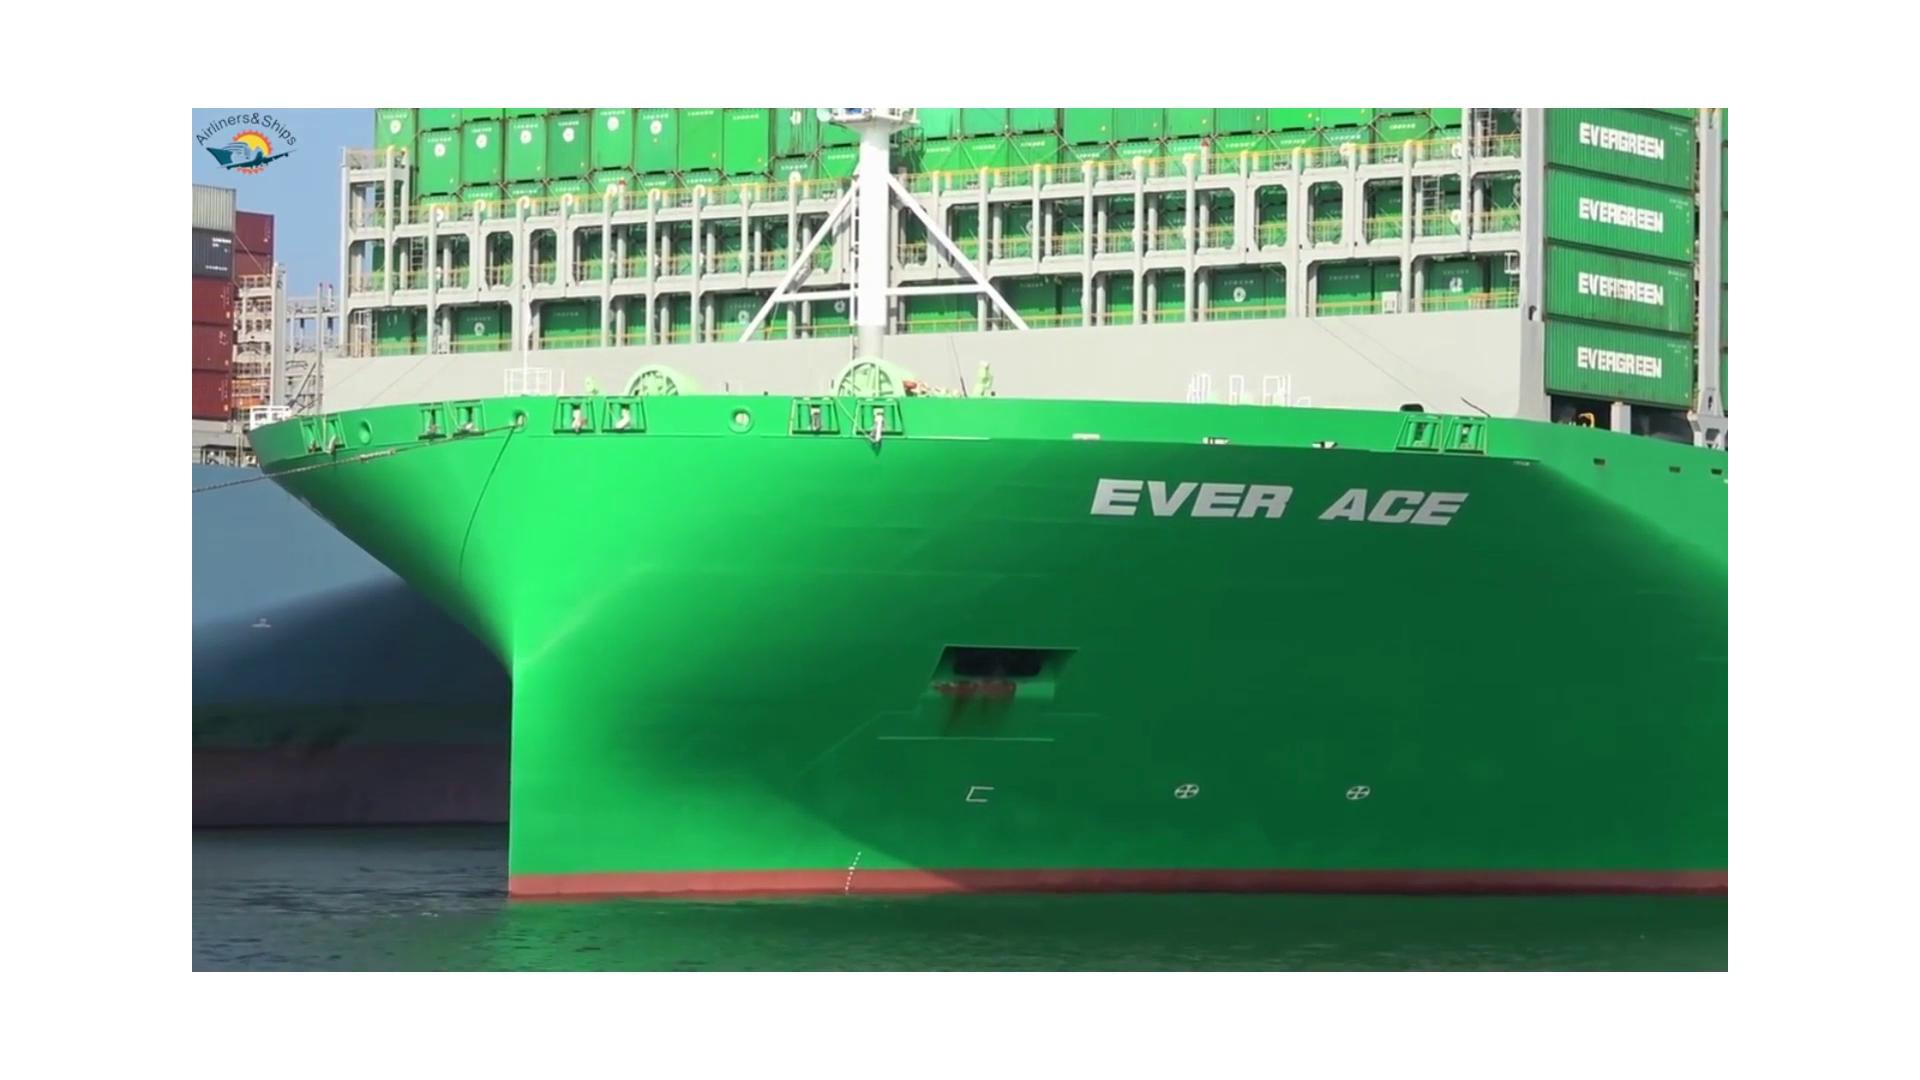OCR: (1073, 435, 1506, 583)
